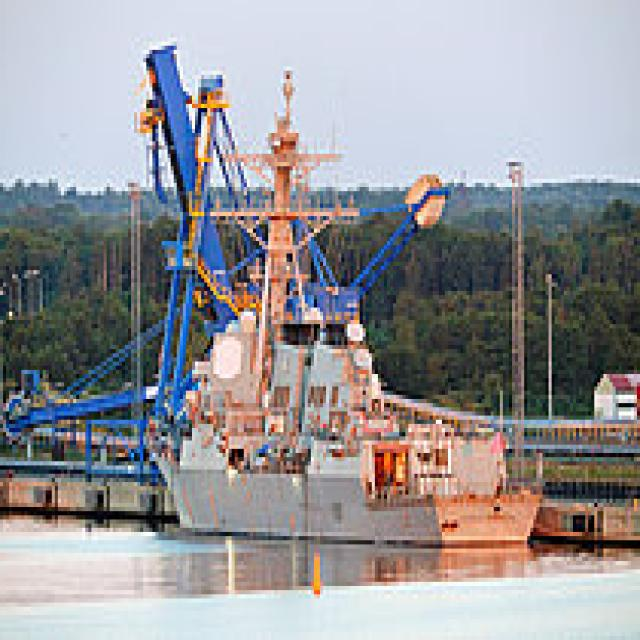Warship: (158, 62, 552, 544)
